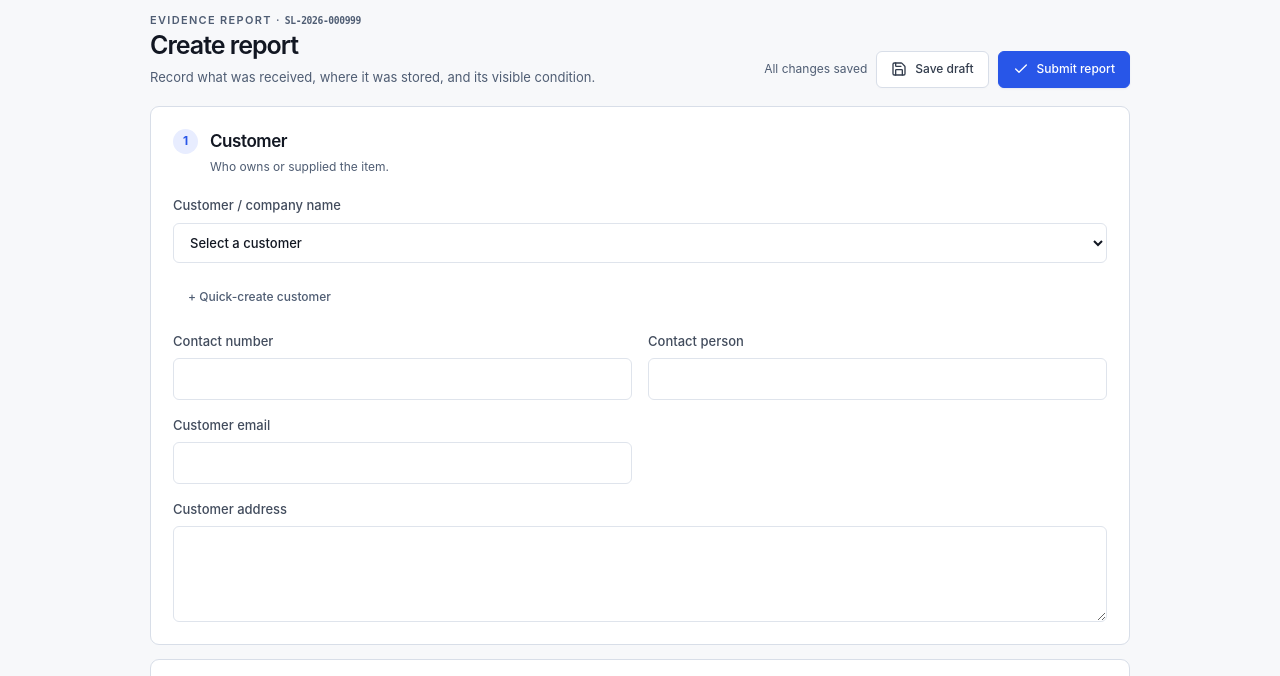
Test: evidence report editor › keeps acknowledgement off and blocks submission until evidence is complete
Click the button "Submit report" at (1064, 69), box [998,51,1130,88]
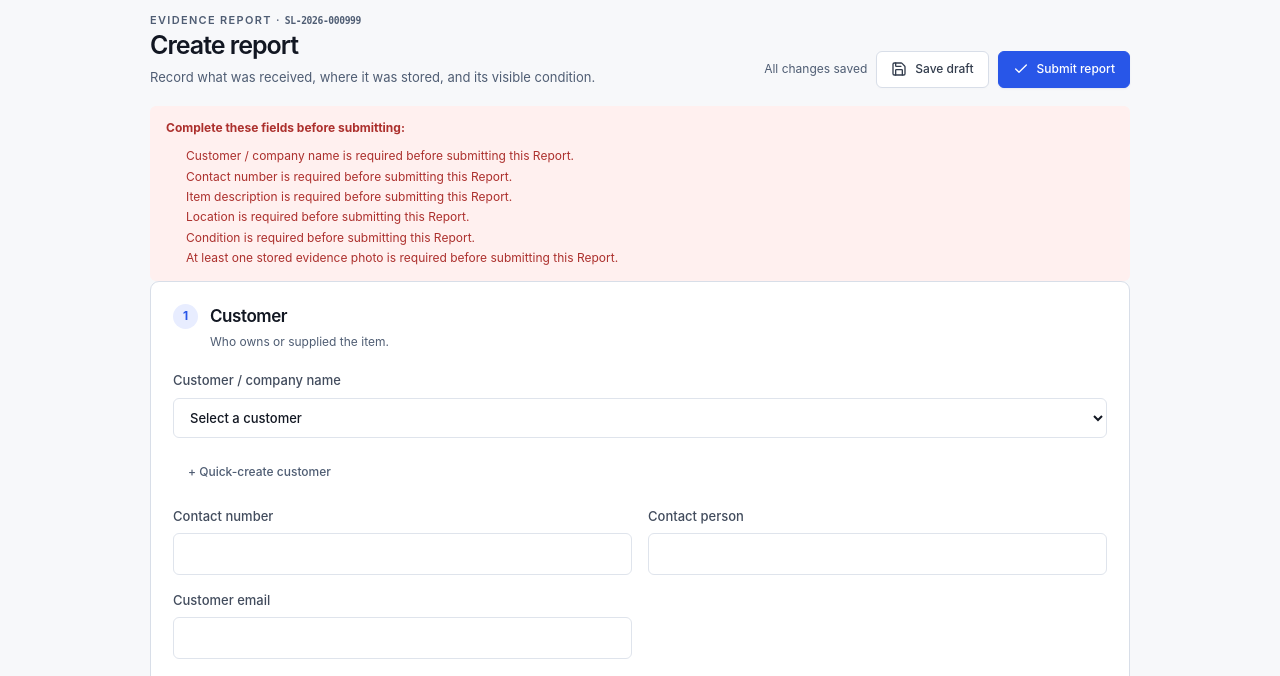
Expected: the list item "Customer / company name is required" is shown, [186,148,574,163]
Expected: the list item "At least one stored evidence photo is required" is shown, [186,250,618,265]
